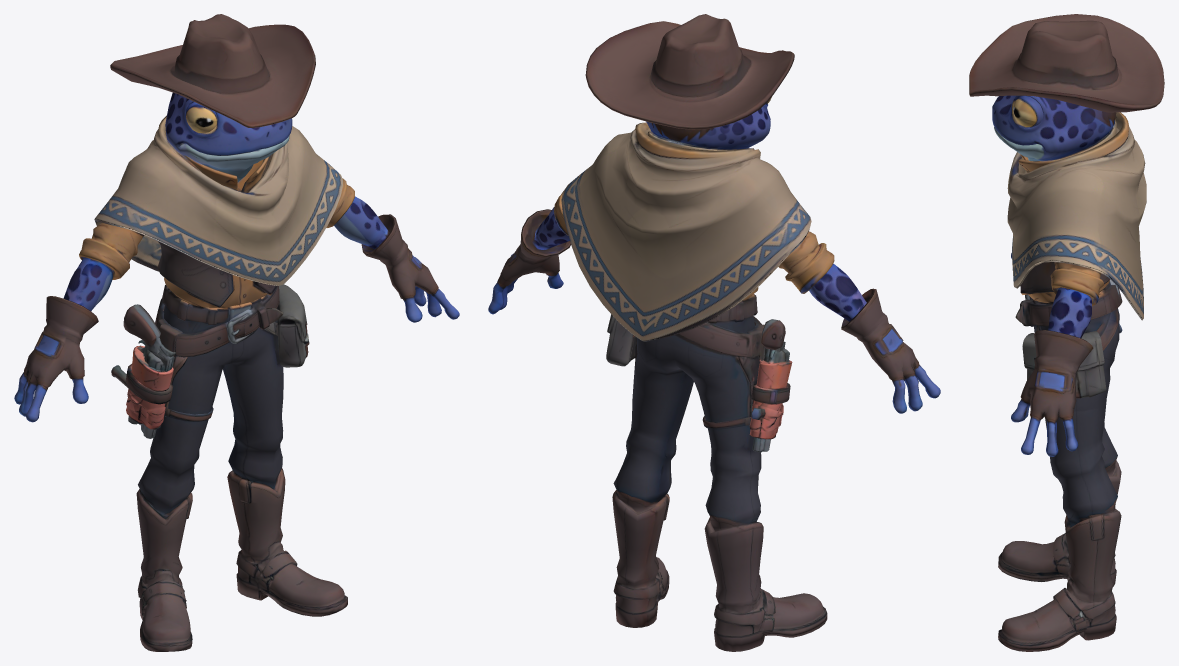
File: verrou_v1.glb
The picture shows the model from 3 angles, left to right: view 1: azimuth 30°, elevation 25°; view 2: azimuth 150°, elevation 25°; view 3: azimuth 270°, elevation 25°; orthographic projection. The views are drawn at different scales.
Parts seen in each view (by area): view 1: tripo_node_c5fb21c8-abc6-470e-92c4-b48e845c3560; view 2: tripo_node_c5fb21c8-abc6-470e-92c4-b48e845c3560; view 3: tripo_node_c5fb21c8-abc6-470e-92c4-b48e845c3560.
Part boxes in pixels (x1,y1,x2,y2): tripo_node_c5fb21c8-abc6-470e-92c4-b48e845c3560: (14,14,459,651); tripo_node_c5fb21c8-abc6-470e-92c4-b48e845c3560: (488,14,940,651); tripo_node_c5fb21c8-abc6-470e-92c4-b48e845c3560: (969,14,1164,651).
Bounding box in the file's own units: 0.7729 × 0.9995 × 0.3052.
1 material, 1 textured.
